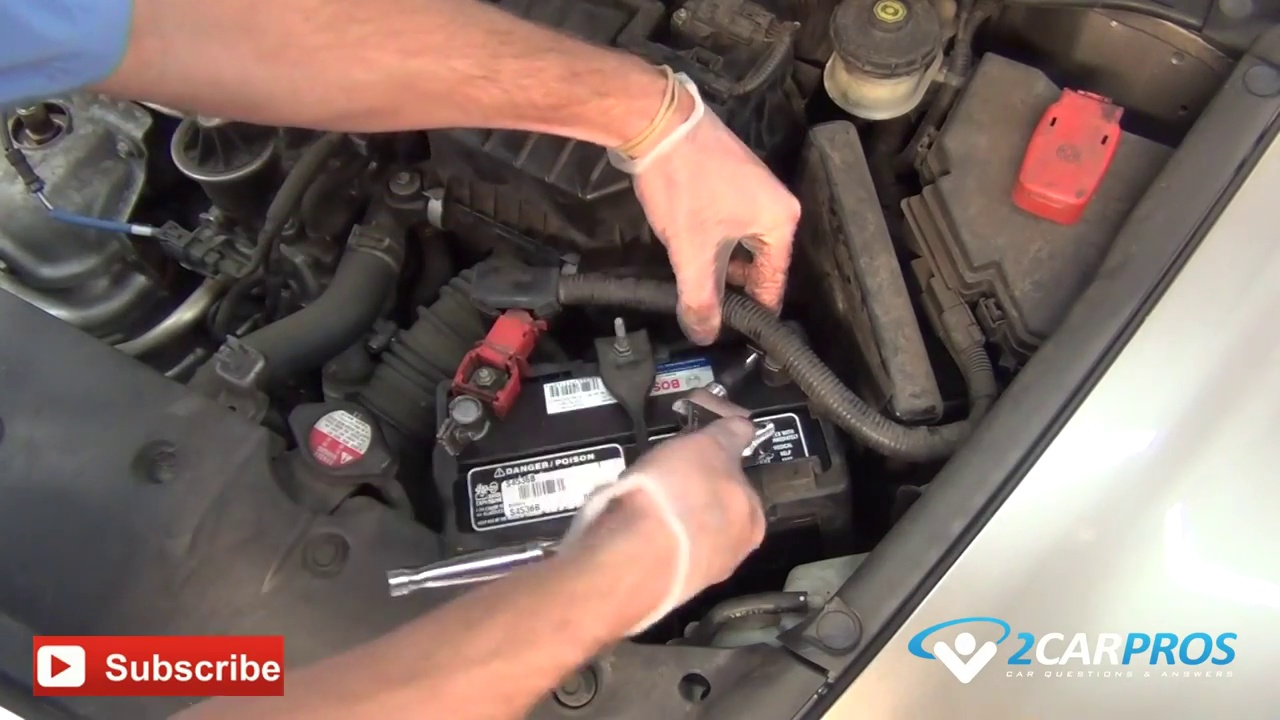battery: (422, 291, 869, 565)
neg_touched: (675, 258, 842, 414)
pos_connected: (440, 296, 558, 462)
